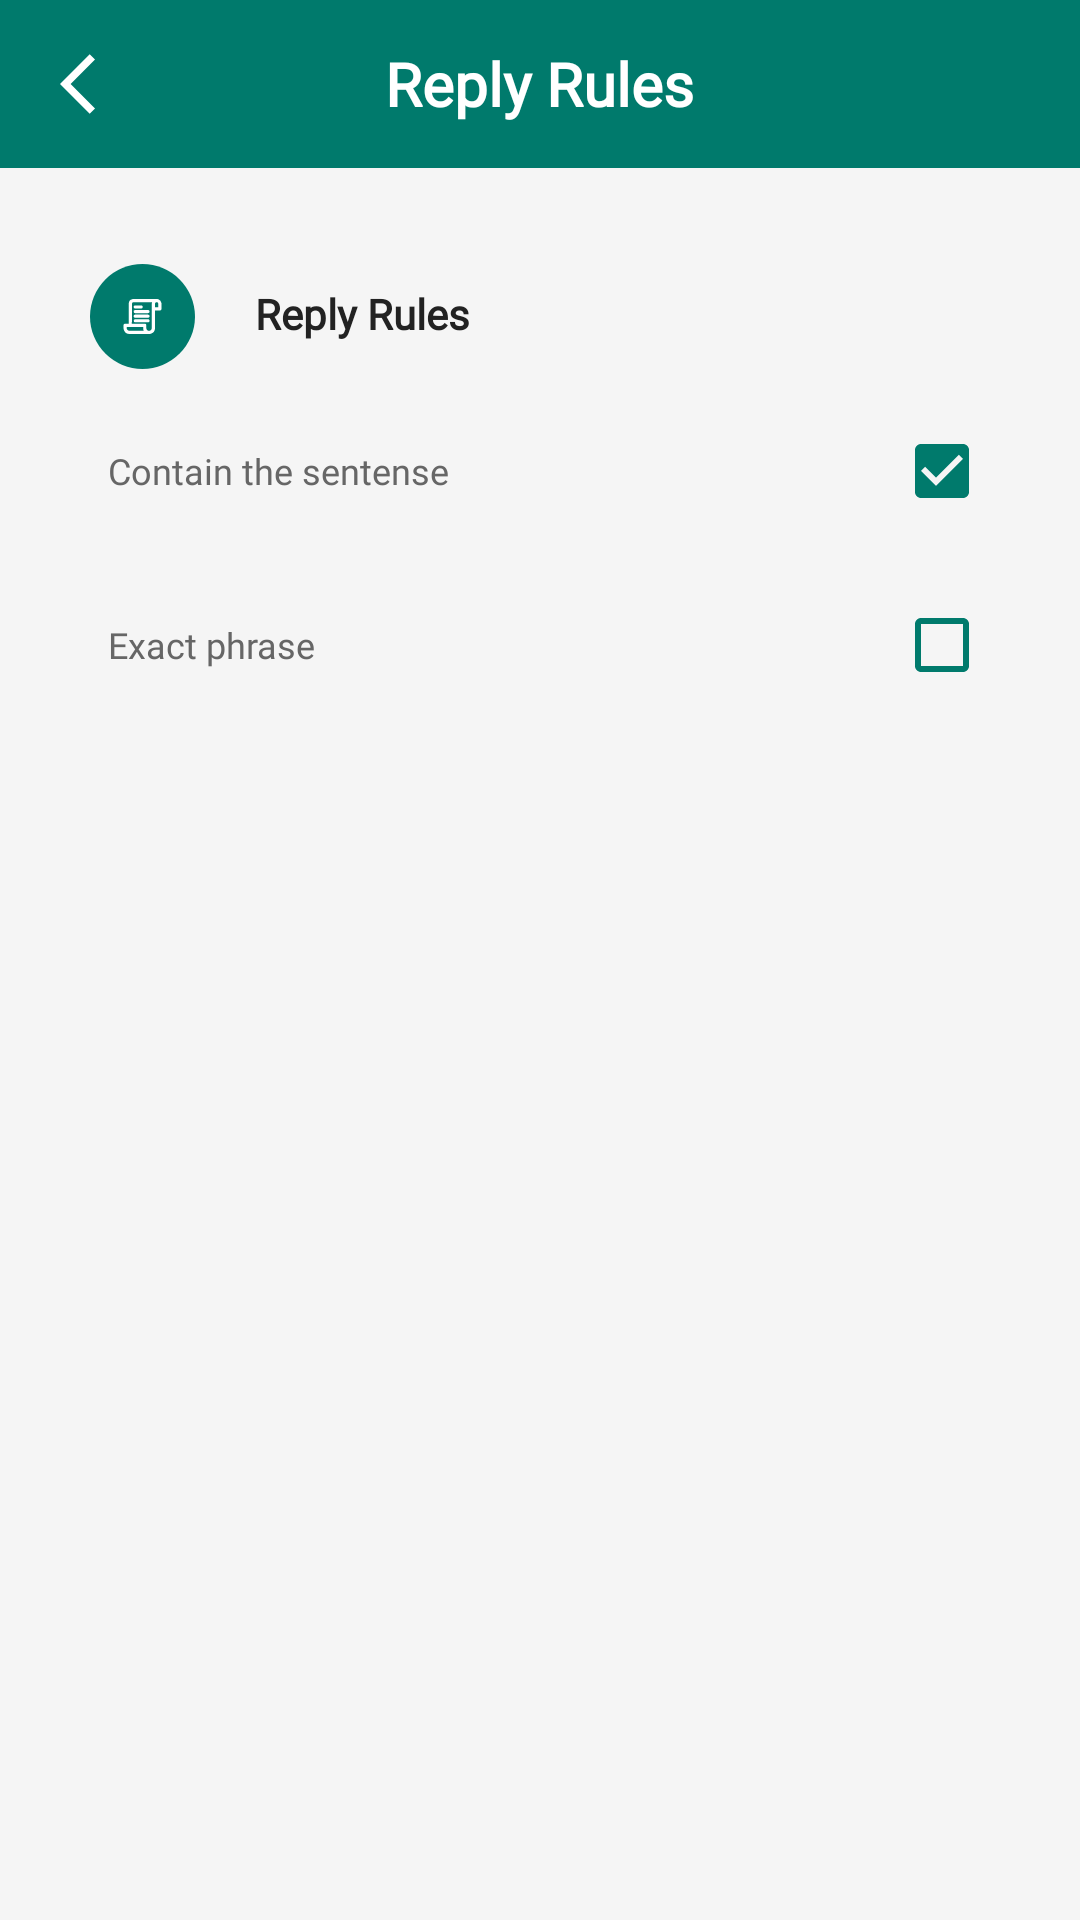

Named icons in this screenshot (1080w x 1920h) and their centers, (x=x, y=y):
arrow back: (x=77, y=84)
